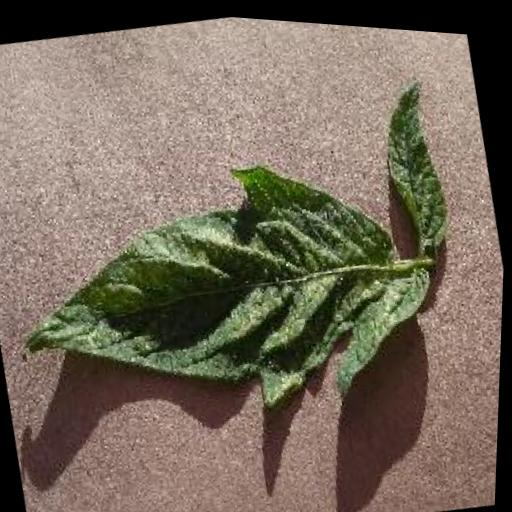Spider Mites: (0, 118, 457, 458)
